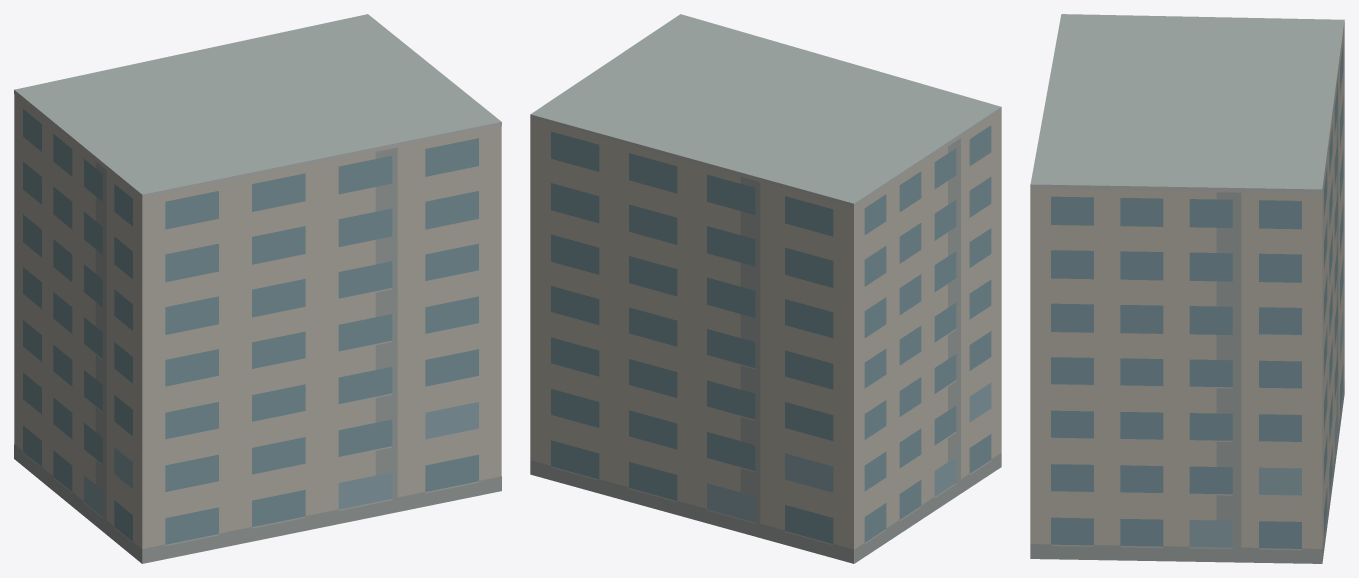
File: survey-upis-32751922.glb
The picture shows the model from 3 angles, left to right: view 1: azimuth 30°, elevation 25°; view 2: azimuth 150°, elevation 25°; view 3: azimuth 270°, elevation 25°; orthographic projection. The views are drawn at different scales.
Visible parts, largest first — view 1: survey-upis-32751922.tmp; view 2: survey-upis-32751922.tmp; view 3: survey-upis-32751922.tmp.
Part boxes in pixels (x1,y1,x2,y2): survey-upis-32751922.tmp: (14, 14, 501, 563); survey-upis-32751922.tmp: (530, 14, 1001, 563); survey-upis-32751922.tmp: (1030, 14, 1344, 563).
Size of the model in its own units: 20.2 by 20.1 by 15.29.
